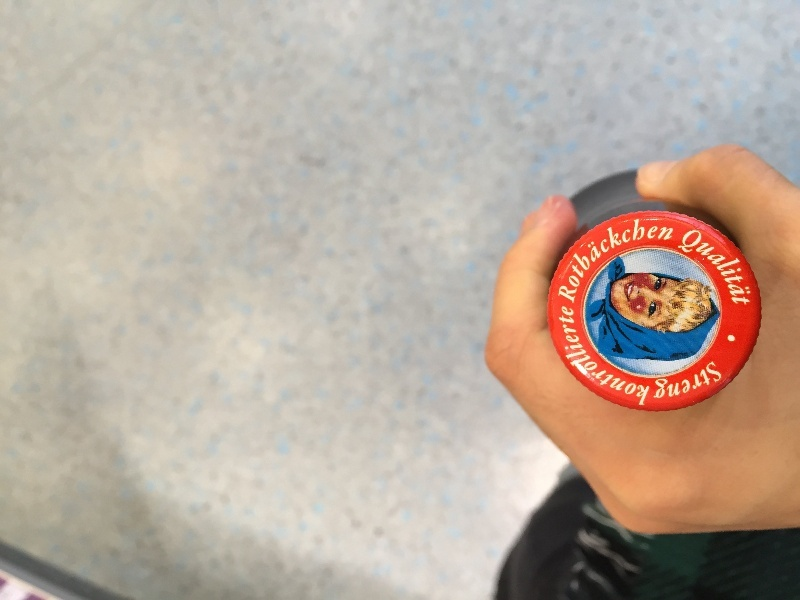text: (577, 303, 592, 429), (593, 303, 608, 429), (609, 303, 624, 429), (625, 303, 640, 429), (561, 194, 576, 310), (577, 194, 592, 310), (593, 194, 608, 310), (609, 194, 624, 310), (625, 194, 640, 310), (641, 194, 656, 310), (657, 194, 672, 310), (705, 210, 720, 319), (721, 210, 736, 319), (737, 210, 752, 319), (546, 194, 560, 310), (753, 210, 766, 319), (566, 303, 576, 429), (641, 303, 651, 429), (657, 360, 672, 405), (673, 360, 688, 405), (689, 360, 704, 405), (705, 360, 720, 405), (699, 210, 704, 319), (673, 194, 677, 310), (721, 360, 724, 405), (654, 360, 656, 405)
